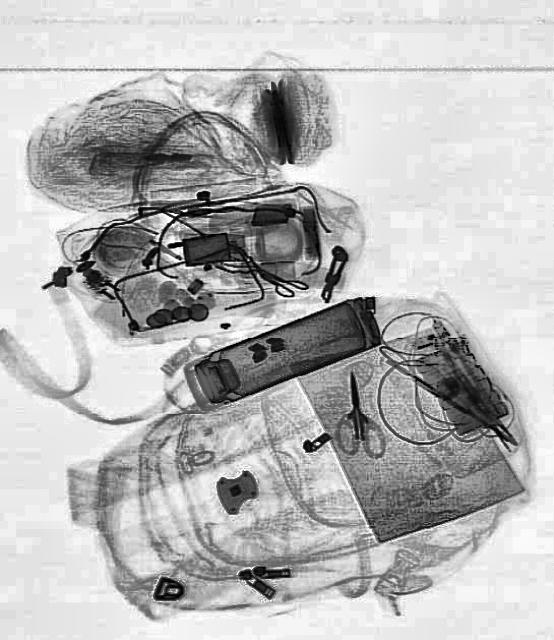Knife: (341, 368, 372, 442)
